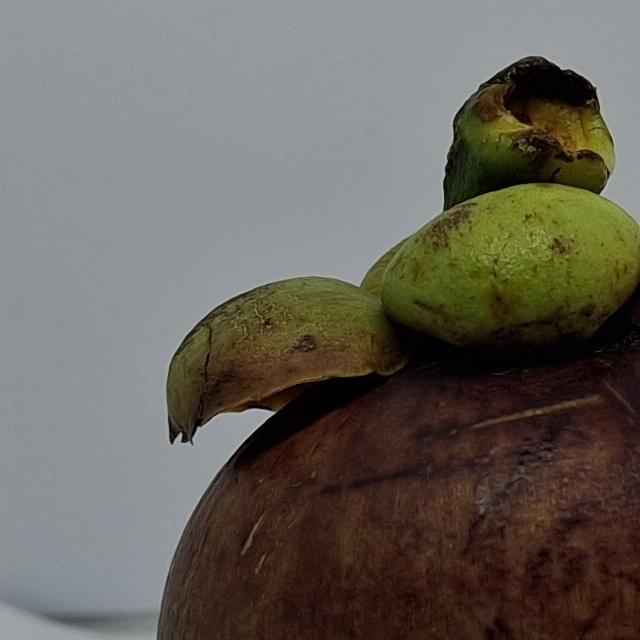mangosteen: (120, 20, 640, 640)
